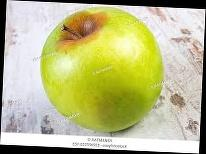rotten apple: (38, 5, 169, 134)
